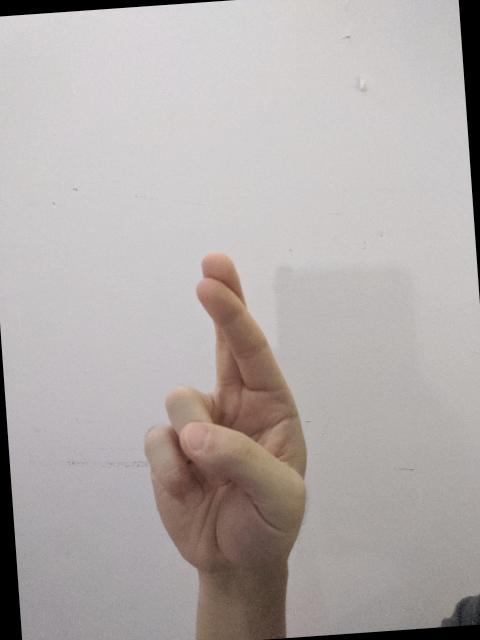R: (126, 241, 324, 584)
